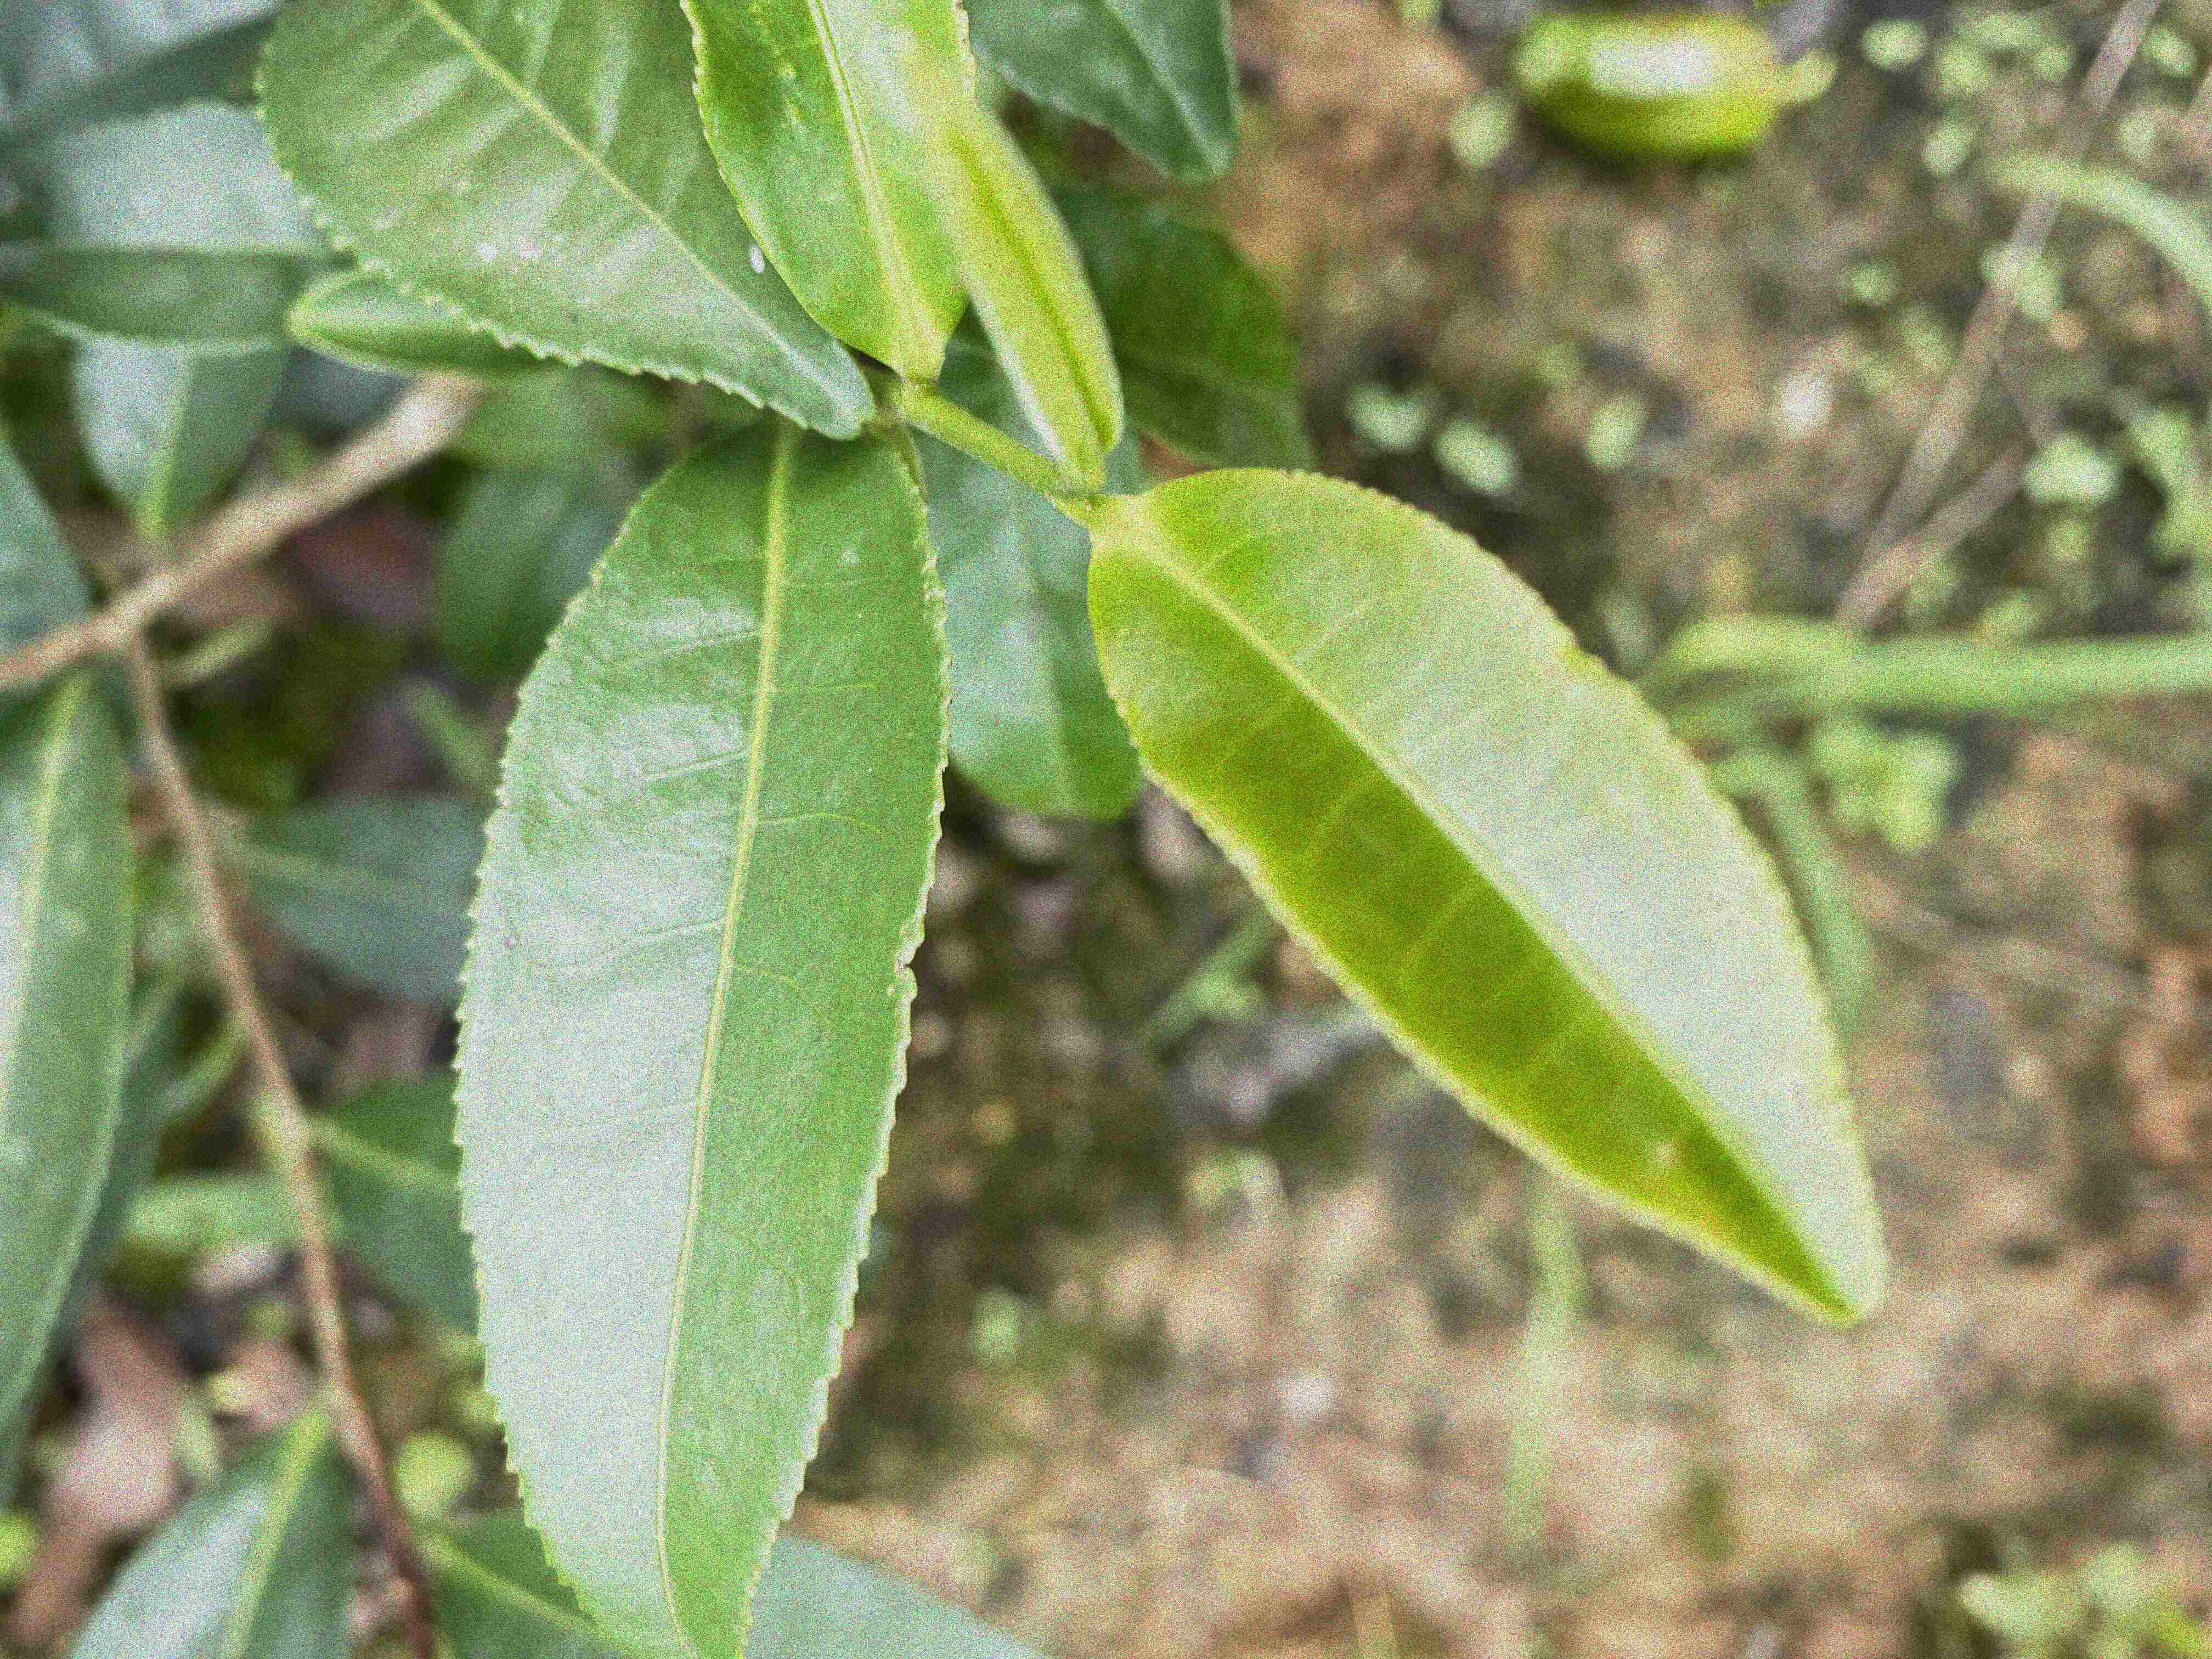healthy: (448, 425, 954, 1657), (679, 2, 970, 376)
tanju_low: (1087, 465, 1888, 1328), (249, 3, 812, 443)
